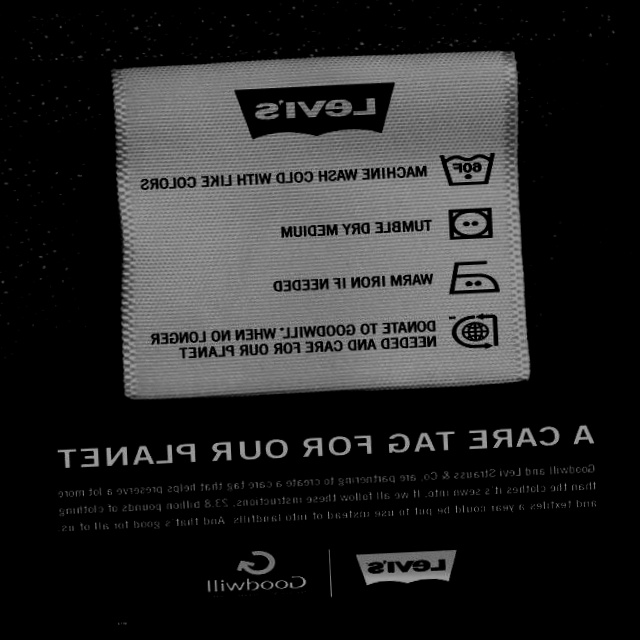30C: (436, 144, 498, 191)
iron_medium: (443, 255, 502, 300)
tumble_dry_medium: (443, 205, 499, 245)
